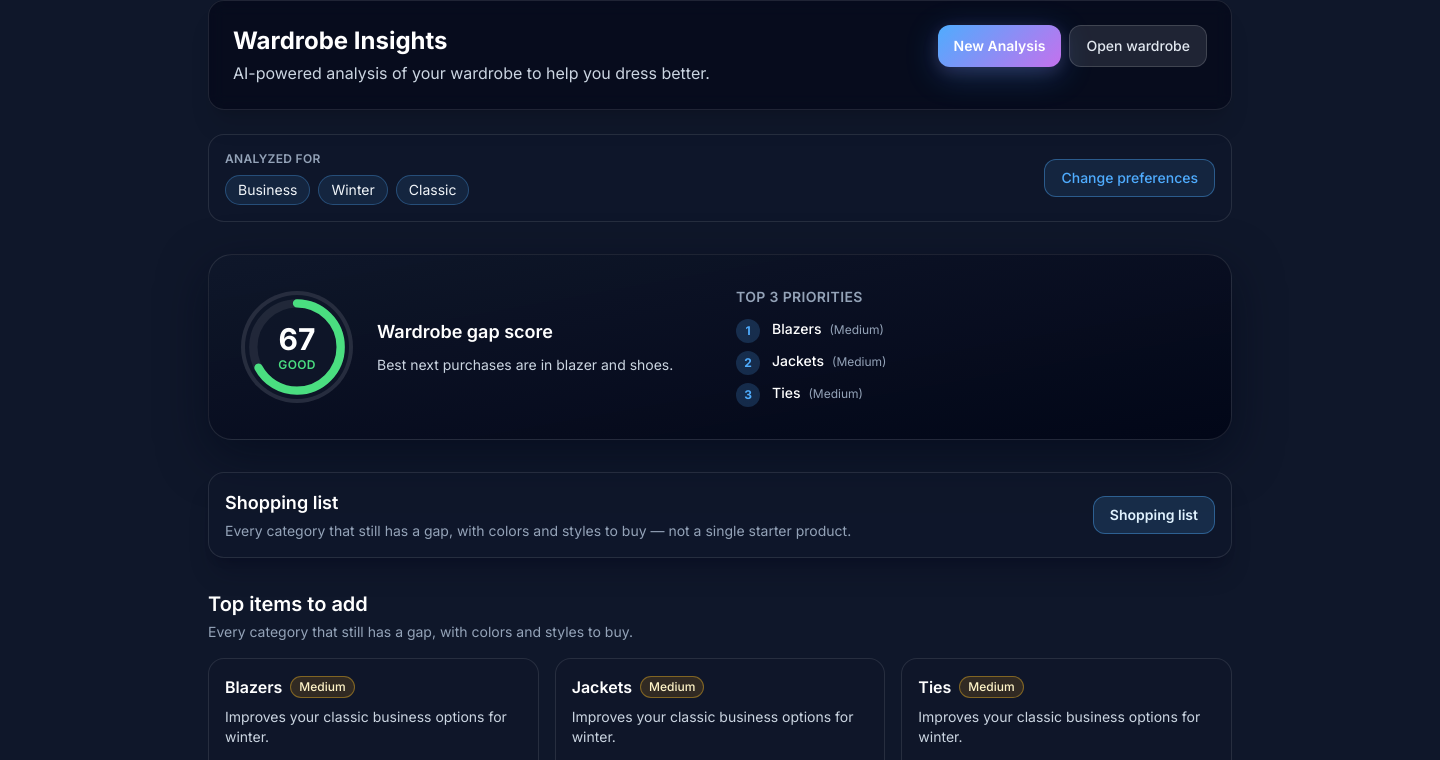
WardrobeInsightsPage layout states › keeps the shopping-list table collapsed until the Shopping list button is clicked
This screenshot has width=1440, height=760.
Click the button "Shopping list" at x=1154, y=515, box [1093,496,1215,534]
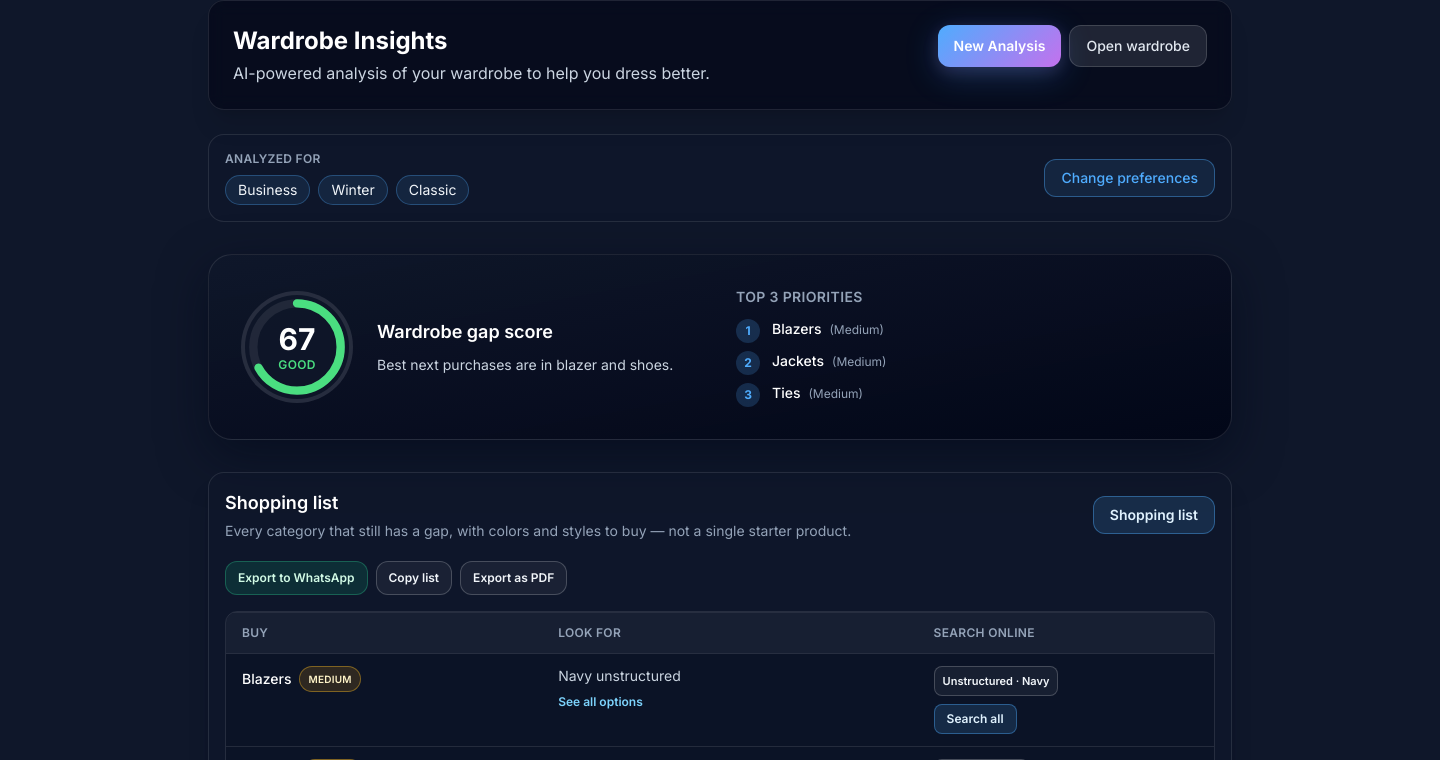
Expected: the column heading "Buy" is shown, [226,612,542,653]
